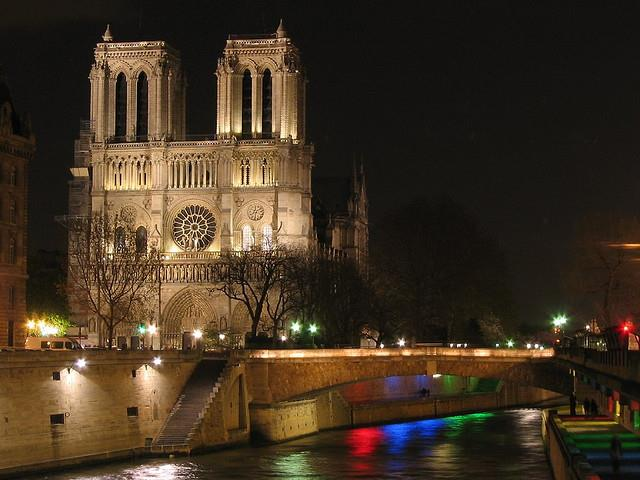Notre_Dame_de_Paris: (68, 12, 318, 346)
